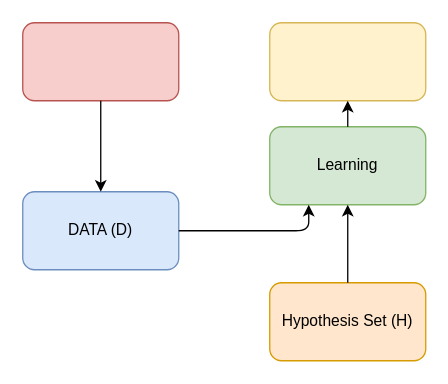
This 448x384 diagram has some shape labels left out. Here are the shapes that lost their labels. From the top down, the box of each, then its label:
(21, 21, 179, 101): Target Function (t)
(268, 21, 426, 101): Hypothesis (h)
